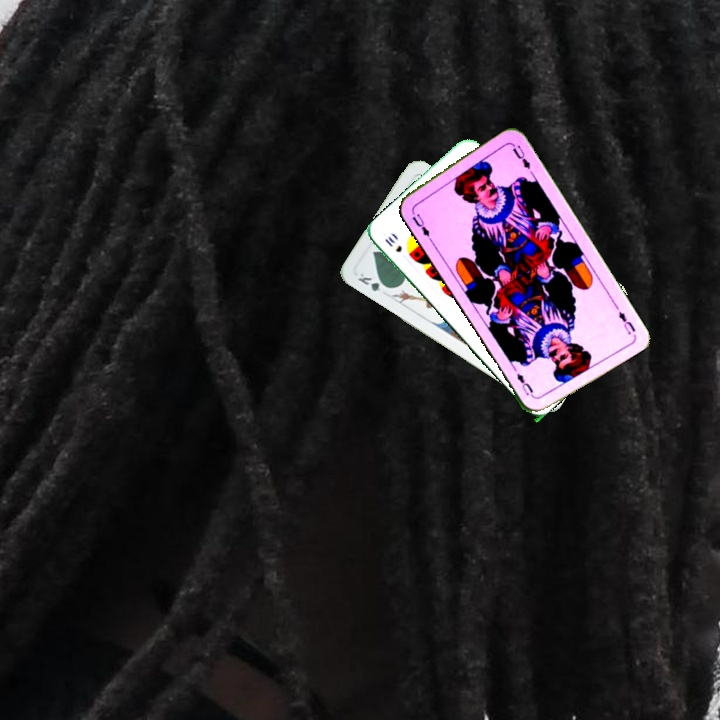EU: (407, 202, 433, 242), (614, 307, 638, 337)
GK: (354, 269, 392, 295)
S10: (380, 232, 404, 255)
